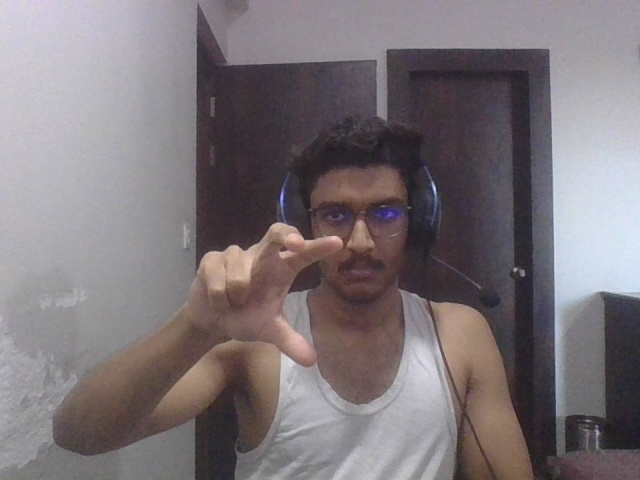No: (186, 213, 354, 372)
